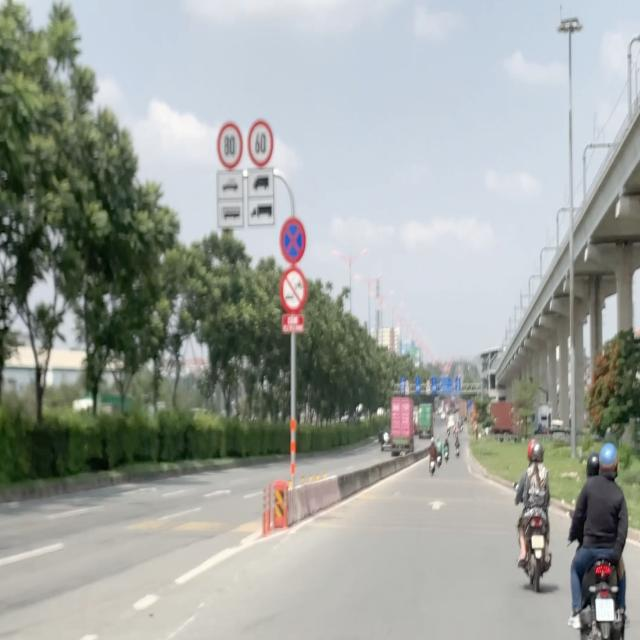Cam dung va do: (278, 215, 307, 265)
Toc do toi da: (247, 119, 273, 167), (216, 122, 243, 168)
